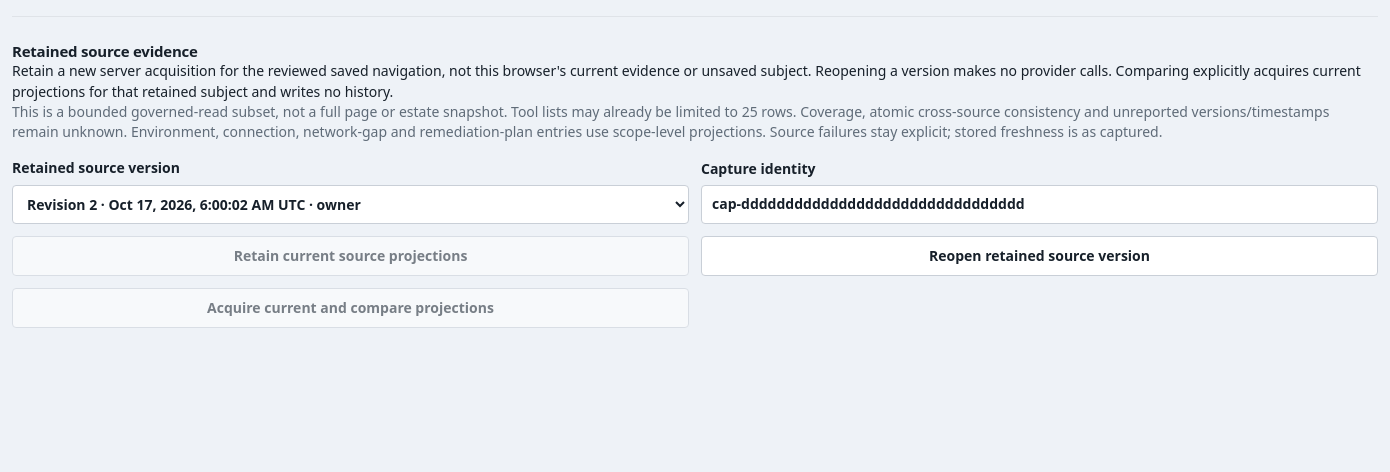
Test: retained investigation source evidence › rejects a mismatched receipt and does not enable comparison
The width and height of the screenshot is (1390, 472).
Click the button "Reopen retained source version" at {"x": 1040, "y": 256}, box [701,236,1378,276]
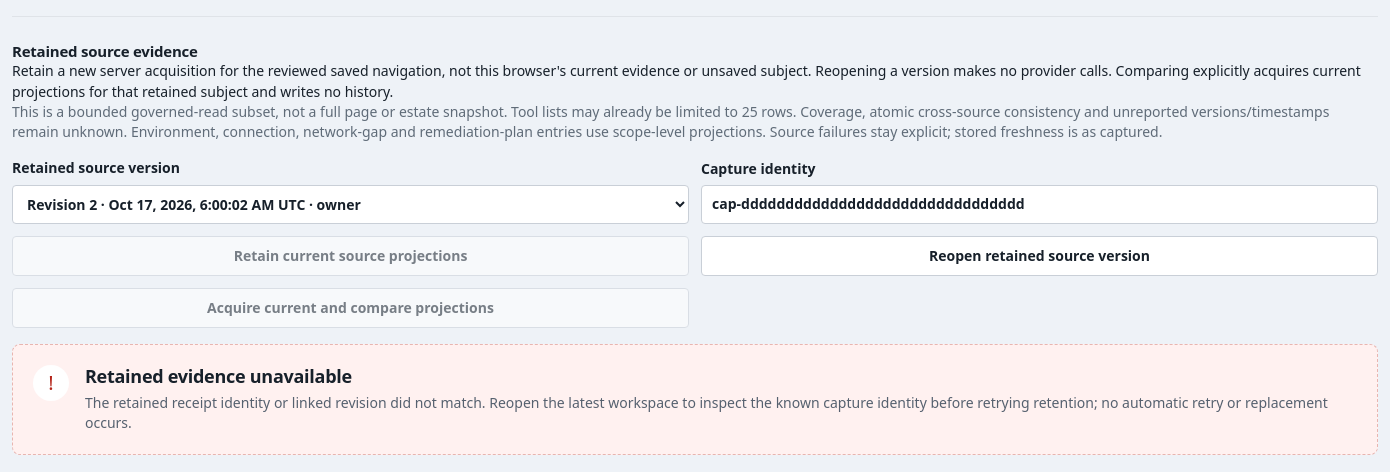
Expected: the button "Acquire current and compare projections" is disabled, [12,288,689,328]
Now the heading "Retained evidence unavailable" is shown, box [85,365,352,388]
